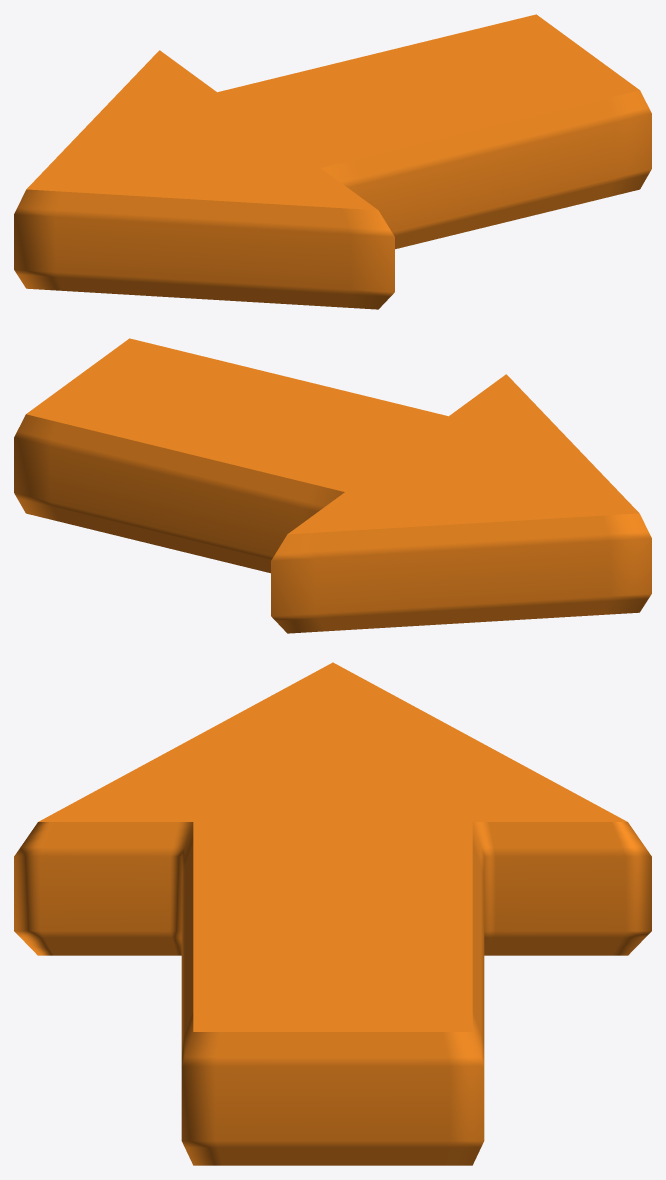
File: sign_left.fbx
3 views of the same model, one above another, from view 1: azimuth 30°, elevation 25°; view 2: azimuth 150°, elevation 25°; view 3: azimuth 270°, elevation 25° (orthographic). The views are drawn at different scales.
Parts seen in each view (by area): view 1: polySurface19; view 2: polySurface19; view 3: polySurface19.
Boxes of the visible parts, x1,y1,x2,y2 form: polySurface19: (14, 14, 651, 309); polySurface19: (14, 338, 651, 633); polySurface19: (14, 662, 651, 1165).
Bounding box in the file's own units: 0.6529 × 0.1065 × 0.4603.
1 material, 1 textured.
